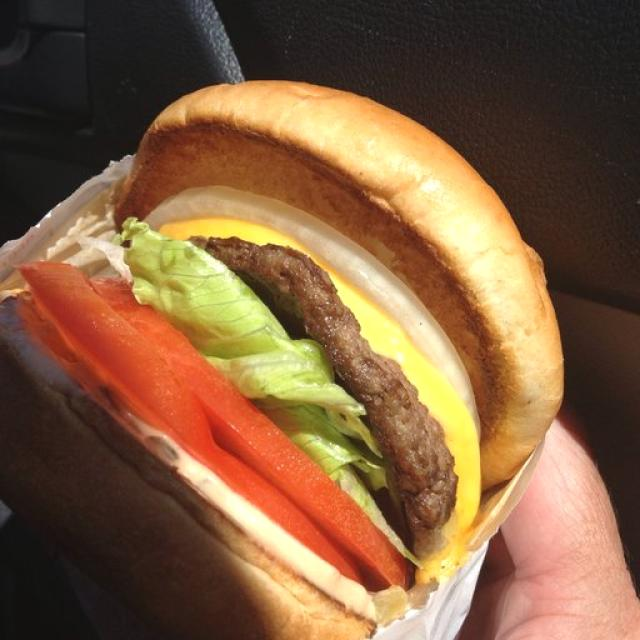burger: (0, 58, 572, 594)
